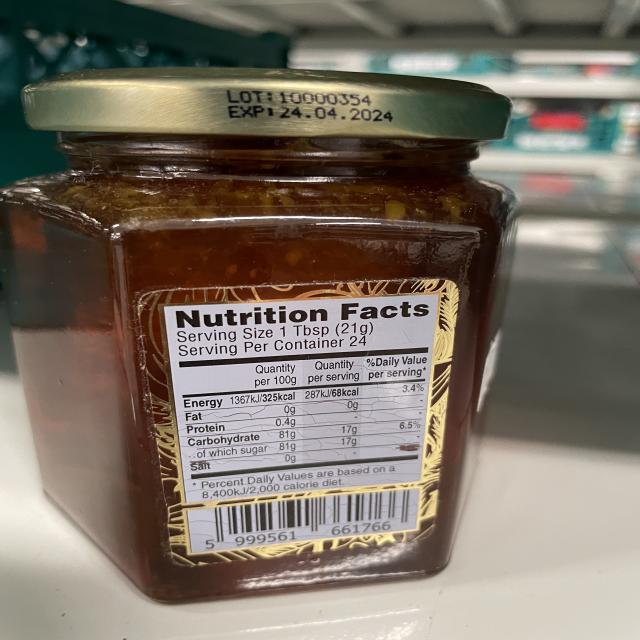object_name: (11, 70, 487, 599)
